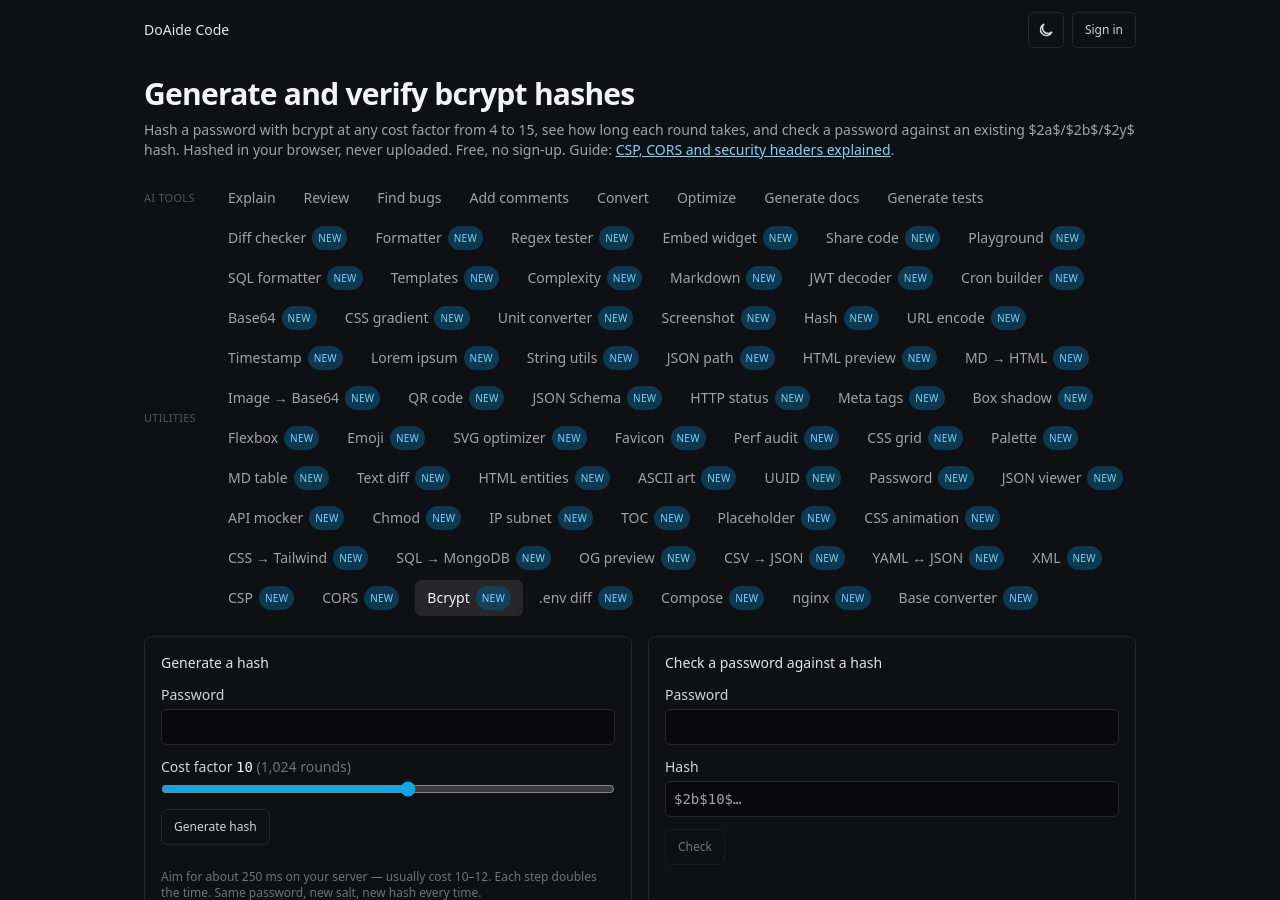
Scenario: BcryptPage › reports a malformed hash
Type "abc" into the field with test id "bcrypt-check-hash" at {"x": 892, "y": 799}, box top-left (665, 781), bottom-right (1119, 817)
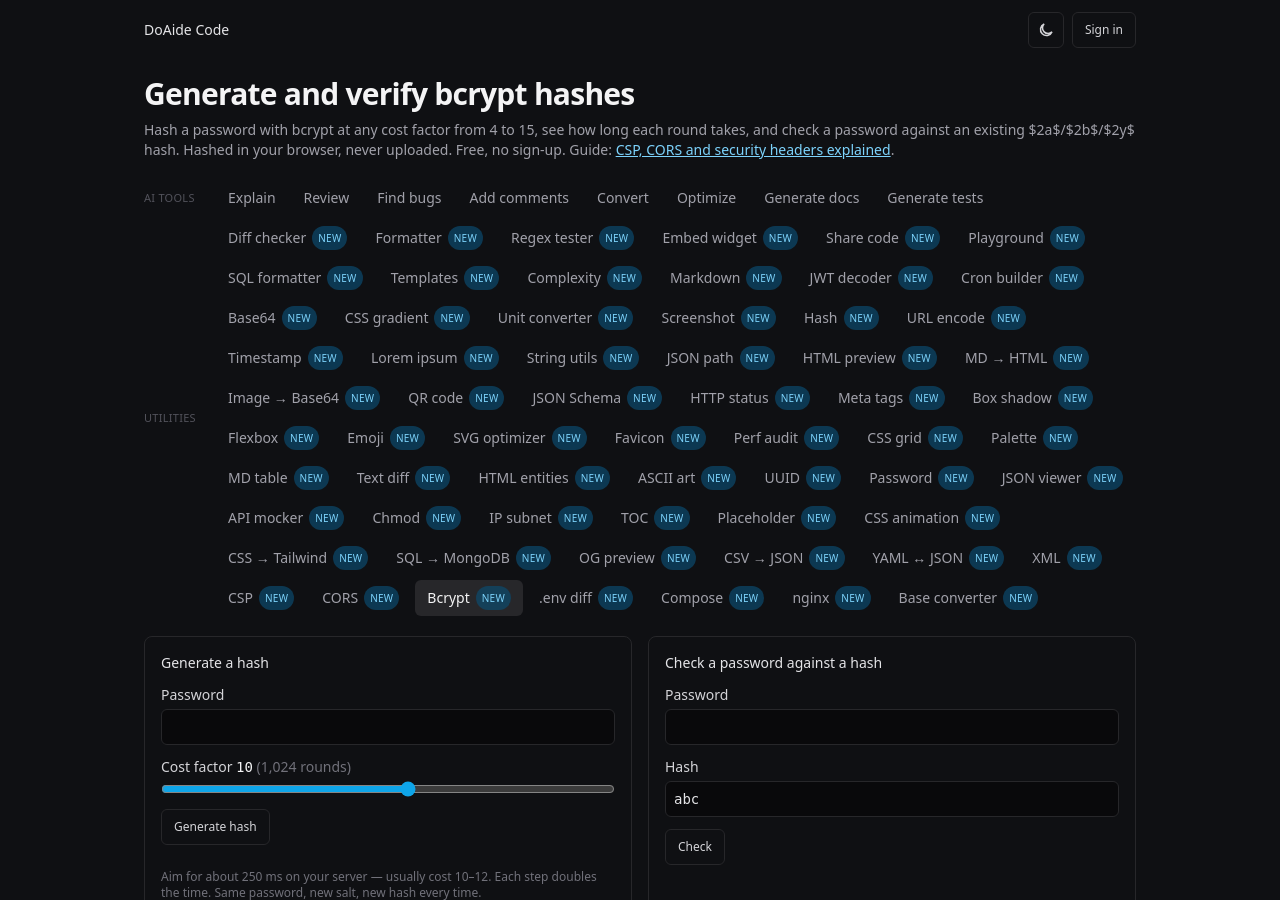
Click the button with test id "bcrypt-verify" at {"x": 695, "y": 847}, box top-left (665, 829), bottom-right (725, 865)
(page scrolled)
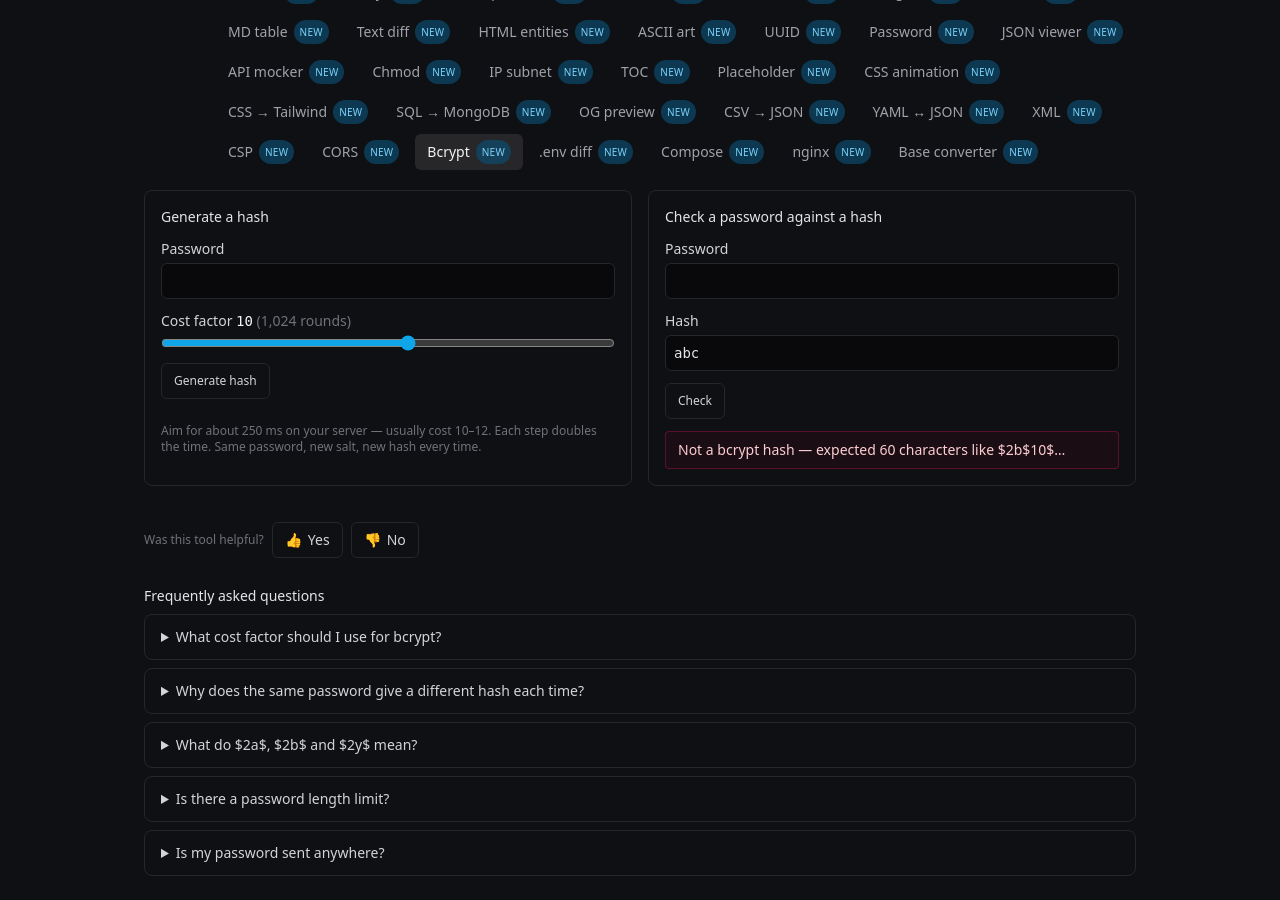
Now the message with test id "bcrypt-verdict" shows "Not a bcrypt hash", box top-left (678, 440), bottom-right (1066, 459)
